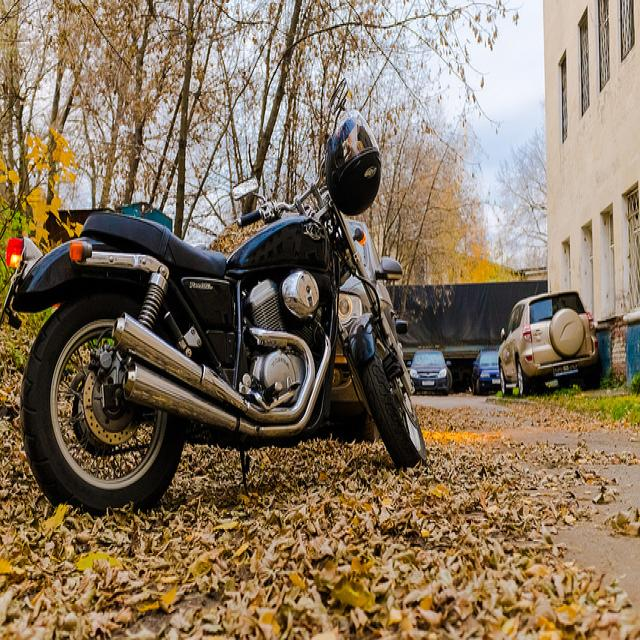motor: (1, 118, 433, 531)
